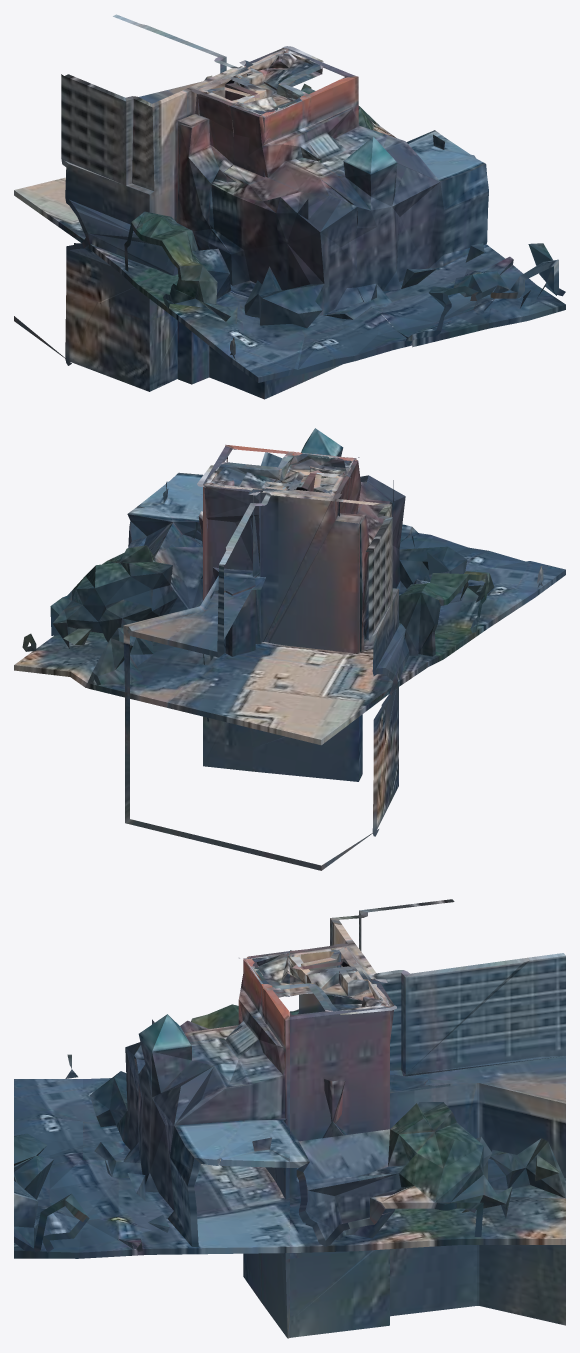
Rendered from chunk_-5_-5.glb.
3 renders of one model, top to bottom at view 1: azimuth 30°, elevation 25°; view 2: azimuth 150°, elevation 25°; view 3: azimuth 270°, elevation 25°, orthographic. The views are drawn at different scales.
Parts seen in each view (by area): view 1: hero-chunk; view 2: hero-chunk; view 3: hero-chunk.
Part boxes in pixels (x1=…): hero-chunk: x1=14, y1=14, x2=565, y2=399; hero-chunk: x1=14, y1=428, x2=565, y2=870; hero-chunk: x1=14, y1=899, x2=565, y2=1338.
Bounding box in the file's own units: 55.42 × 49.45 × 76.32.
Materials: 2 (2 with a texture image).
